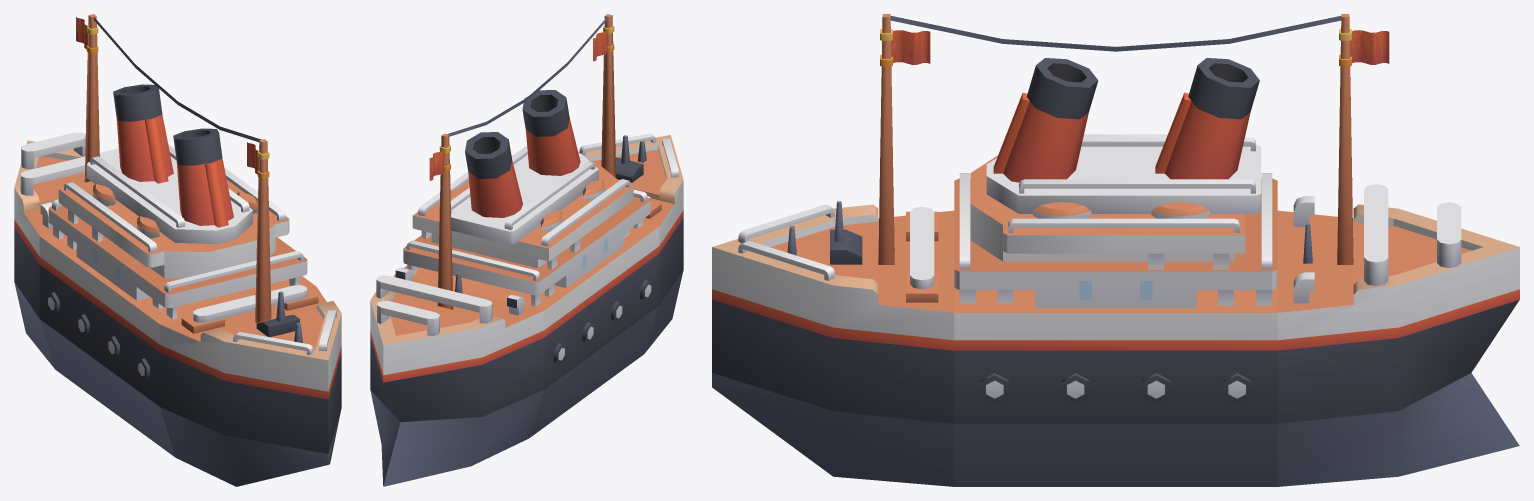
The model's file is boat_liner.glb.
3 views of the same model, side by side, from view 1: azimuth 30°, elevation 25°; view 2: azimuth 150°, elevation 25°; view 3: azimuth 270°, elevation 25° (orthographic). The views are drawn at different scales.
Visible parts, largest first — view 1: ship-ocean-liner-small; view 2: ship-ocean-liner-small; view 3: ship-ocean-liner-small.
Part boxes in pixels (x1,y1,x2,y2): ship-ocean-liner-small: (14,14,341,486); ship-ocean-liner-small: (370,14,683,486); ship-ocean-liner-small: (712,14,1519,486).
Bounding box in the file's own units: 4.76 × 8.93 × 15.2.
Materials: 1 (1 with a texture image).
